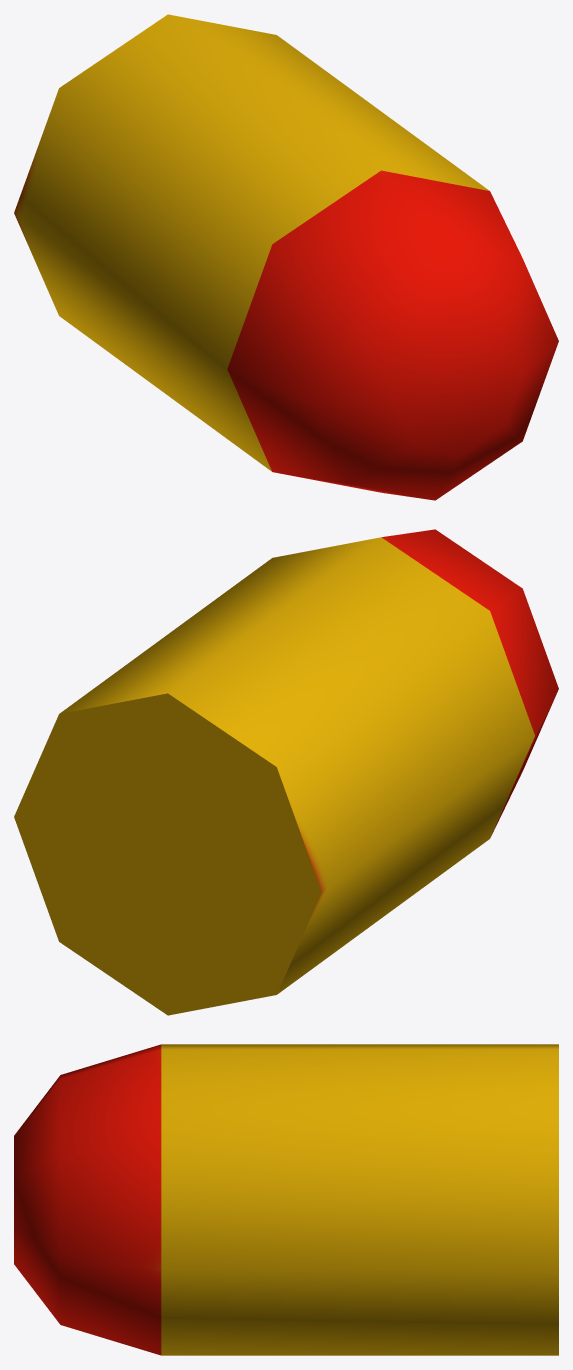
The model's file is shell.fbx.
3 views of the same model, one above another, from view 1: azimuth 30°, elevation 25°; view 2: azimuth 150°, elevation 25°; view 3: azimuth 270°, elevation 25° (orthographic). The views are drawn at different scales.
Parts seen in each view (by area): view 1: Shell; view 2: Shell; view 3: Shell.
Boxes of the visible parts, x1,y1,x2,y2 form: Shell: [14, 14, 558, 500]; Shell: [14, 529, 558, 1015]; Shell: [14, 1044, 558, 1355].
Bounding box in the file's own units: 29.81 × 49.03 × 29.81.
